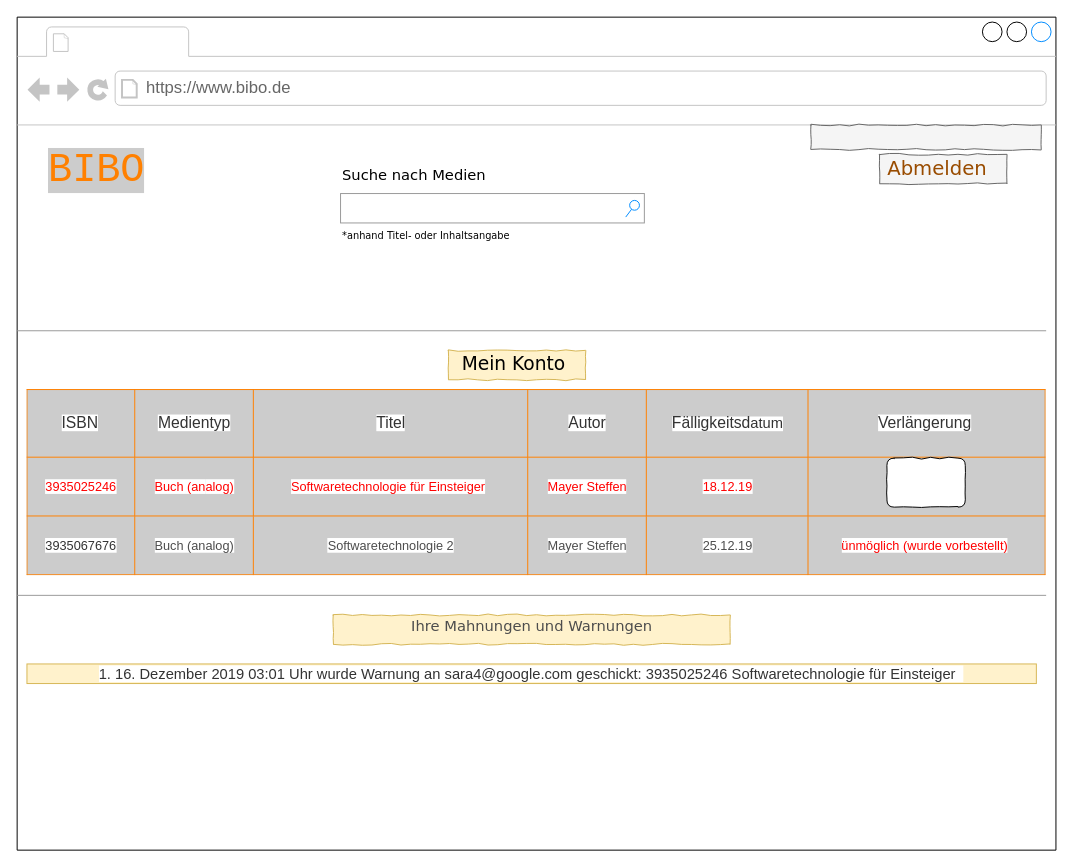
Some shapes in this 1073 by 867 pixel diagram are drawn without their labels. The shapes that lost their labels are listed below. From the top down, each one's box as (x1, y1, x2, y2) in pixels, then its label:
(75, 28, 184, 54): Page 1
(810, 124, 1041, 149): Hаllo, Sаrа :)
(886, 457, 965, 507): verlängern
